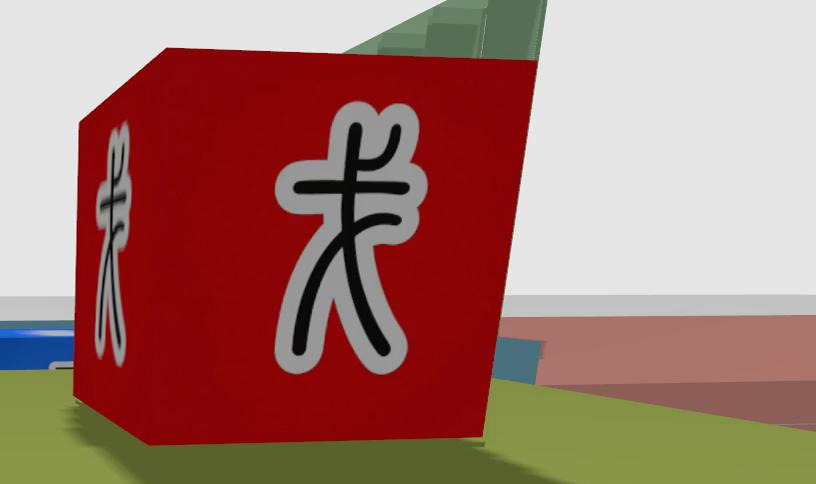KFS_FAKE: (73, 49, 535, 444), (275, 101, 425, 374), (94, 123, 128, 364)
